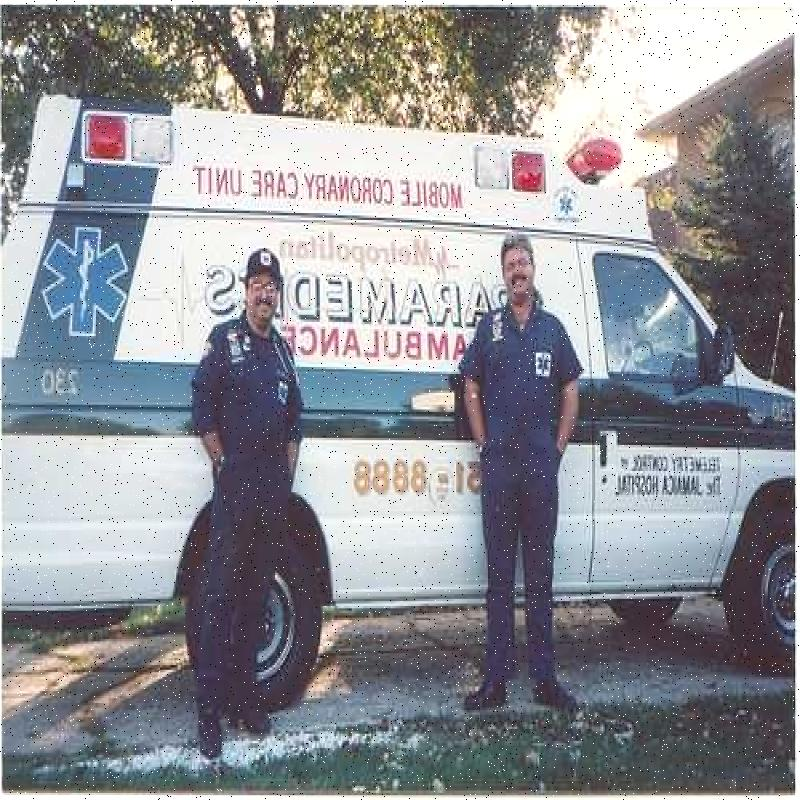AmbulanceSiren: (457, 115, 564, 229), (83, 80, 175, 203)
